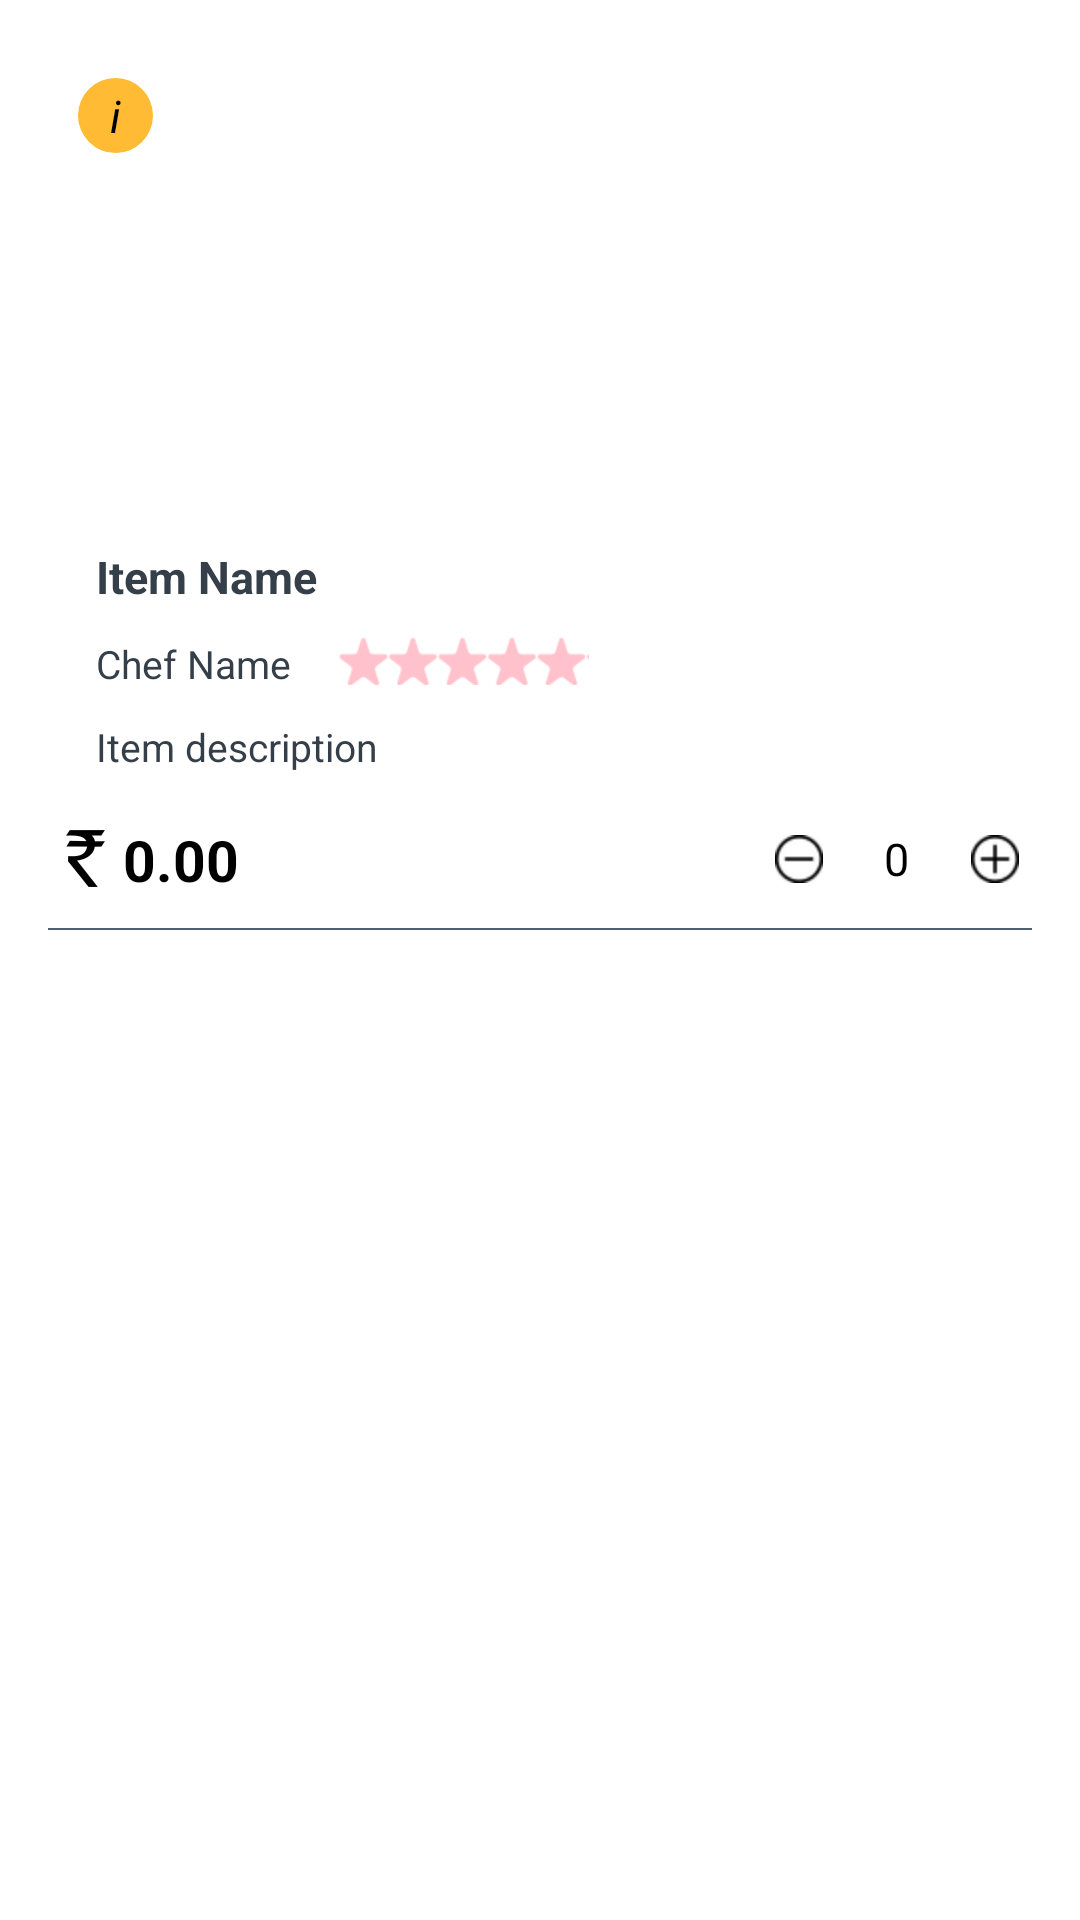

Screen size 1080×1920. Icon name, then its box in pixels as {"left": x1, "top": y1, "right": x2, "bottom": y2}:
indian rupee symbol: {"left": 66, "top": 830, "right": 105, "bottom": 887}
minus: {"left": 775, "top": 835, "right": 823, "bottom": 883}
plus: {"left": 971, "top": 835, "right": 1019, "bottom": 883}
